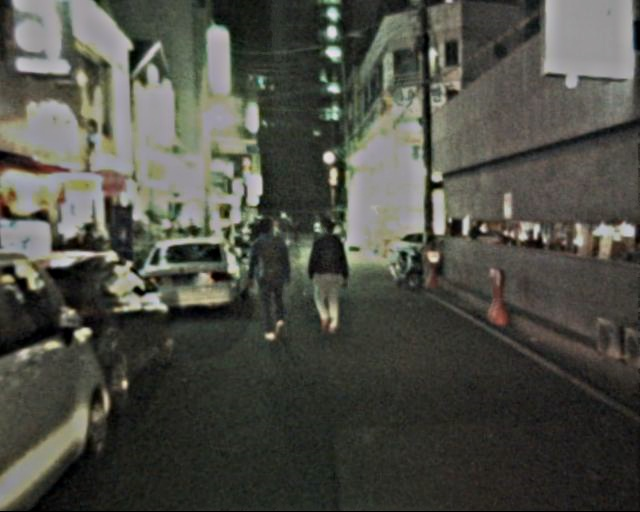person: (241, 217, 294, 344), (301, 217, 350, 333)
